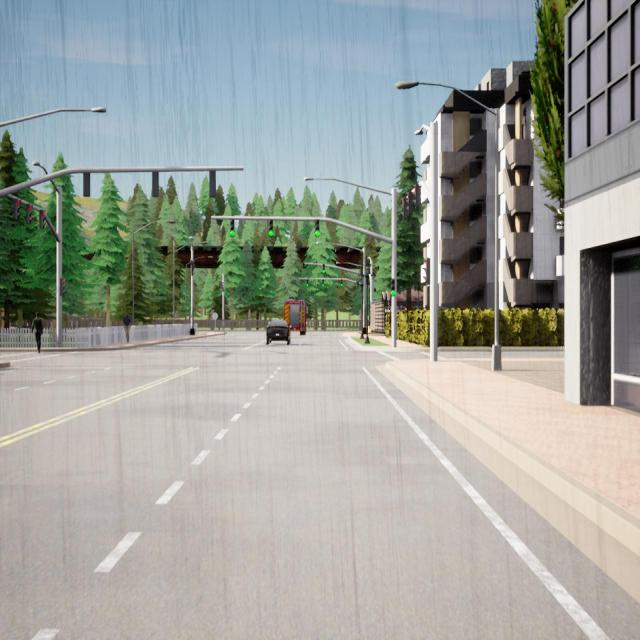Pedestrian: (31, 312, 43, 353), (123, 312, 131, 343)
Traffic_Signs: (213, 313, 218, 319)
Vehicle: (284, 296, 306, 336), (266, 319, 290, 345)
traffic_light: (423, 258, 430, 285), (152, 171, 159, 197), (83, 172, 90, 196), (210, 170, 216, 197), (60, 278, 67, 296), (14, 199, 20, 219), (40, 210, 46, 229), (408, 192, 413, 213), (402, 198, 407, 218), (27, 204, 32, 224), (416, 184, 420, 208), (230, 219, 235, 237), (315, 220, 320, 237), (391, 279, 395, 296), (269, 220, 273, 237), (323, 264, 325, 274), (340, 280, 343, 286), (306, 279, 308, 287), (192, 261, 194, 269), (322, 280, 324, 287), (220, 282, 222, 288)
